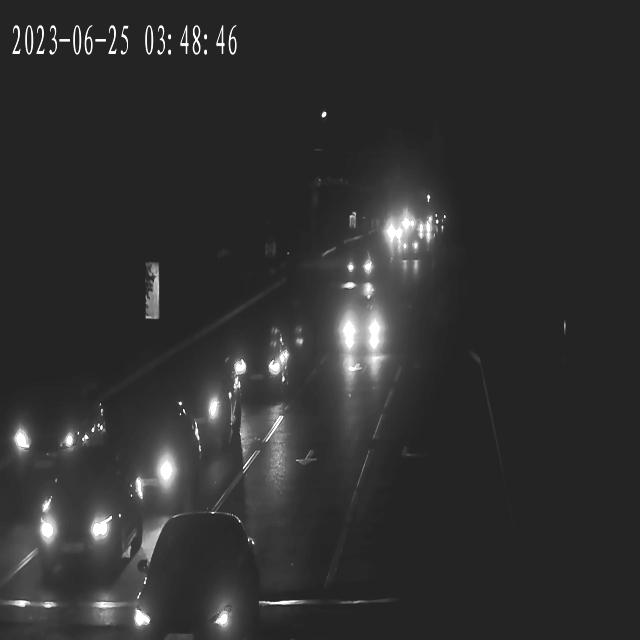Car: (132, 516, 261, 639), (88, 406, 202, 516), (28, 474, 138, 586), (146, 364, 240, 456), (5, 387, 104, 465), (229, 326, 295, 401), (336, 304, 388, 359), (339, 248, 376, 283), (397, 237, 421, 257), (382, 226, 404, 242), (416, 224, 434, 236)
